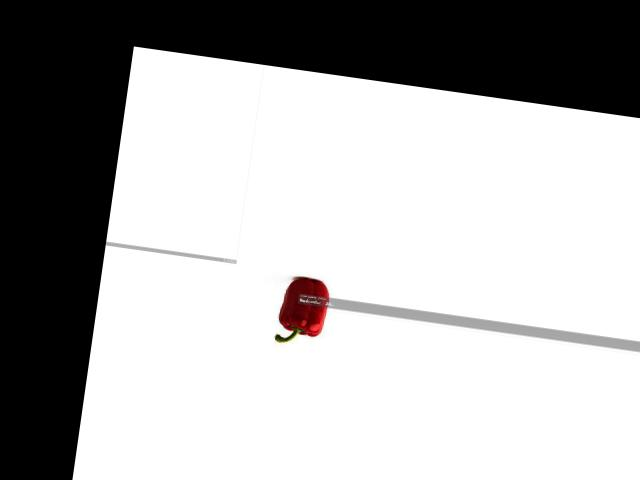bell_pepper: (267, 275, 334, 352)
